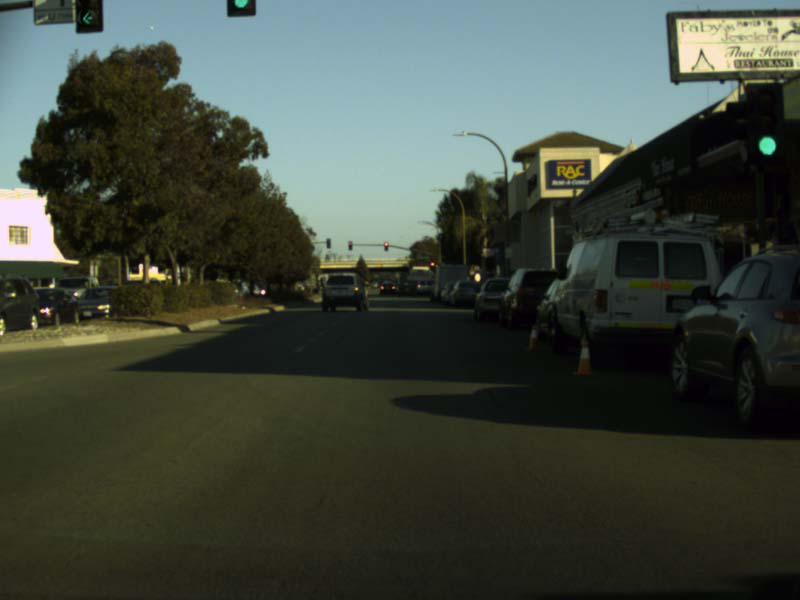Green: (745, 83, 785, 162)
Red: (429, 261, 436, 267), (383, 241, 387, 251), (348, 241, 352, 250)
